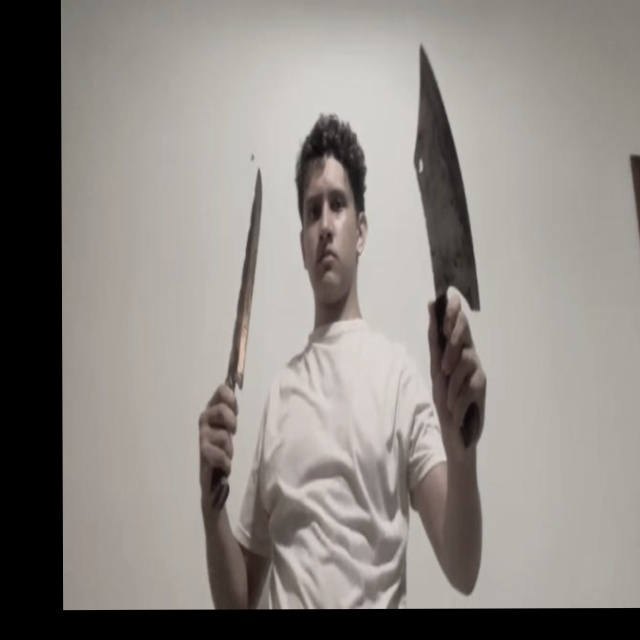Sharp-Object: (412, 42, 480, 308), (226, 168, 263, 385)
